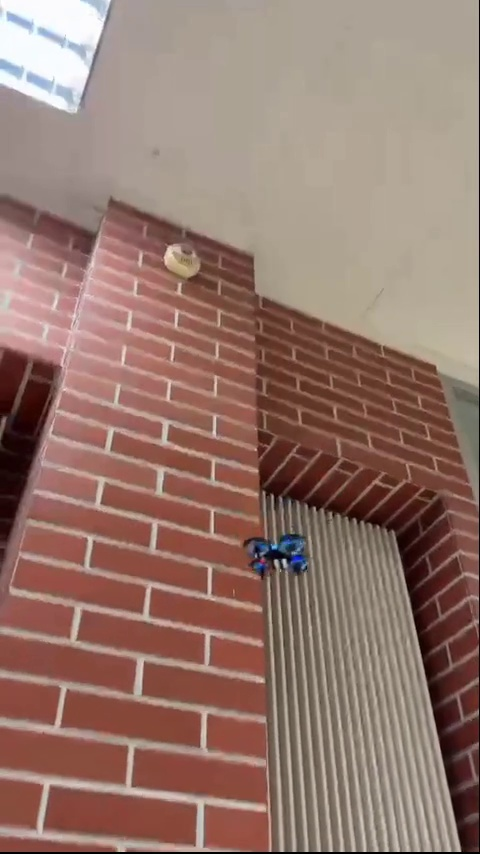drone: (240, 532, 310, 576)
